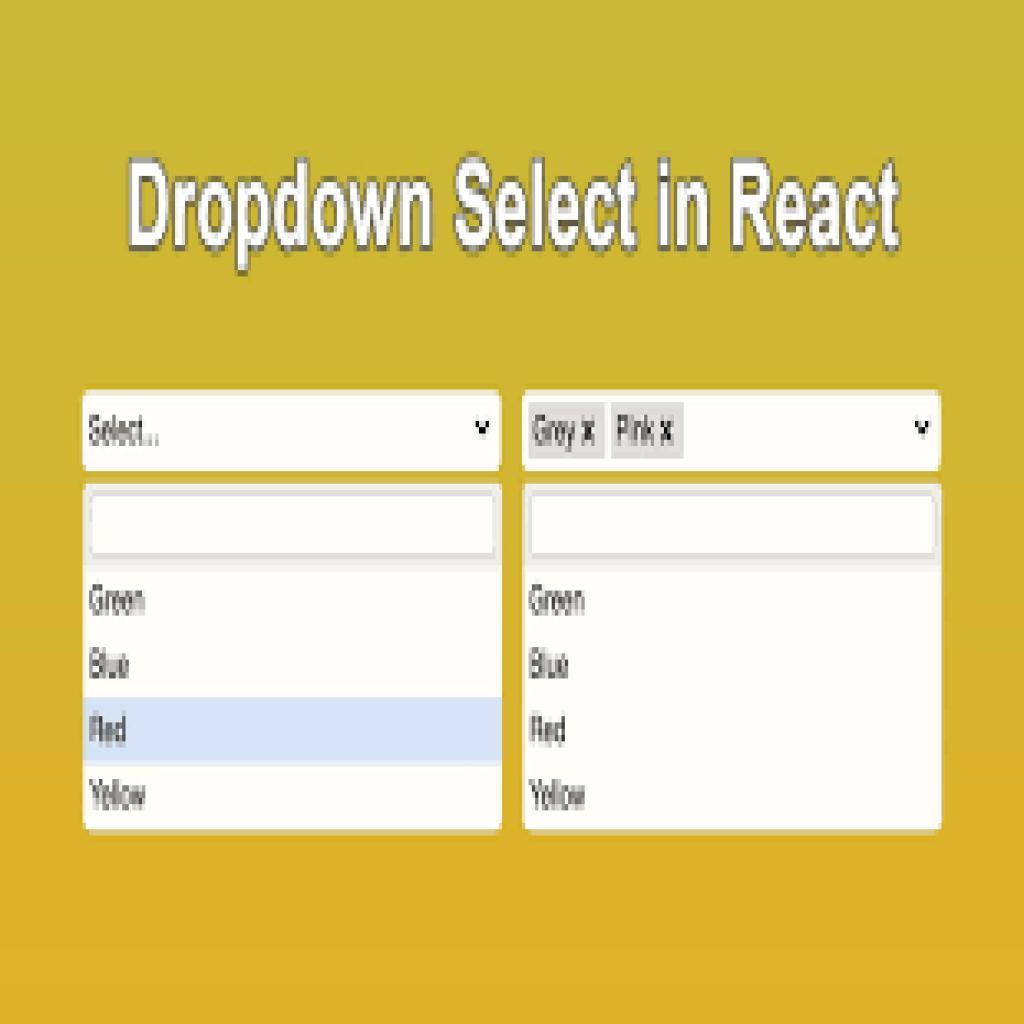button: (83, 698, 501, 765)
dropdown: (521, 388, 944, 474), (80, 390, 505, 474)
input: (529, 491, 937, 560), (90, 492, 497, 559)
